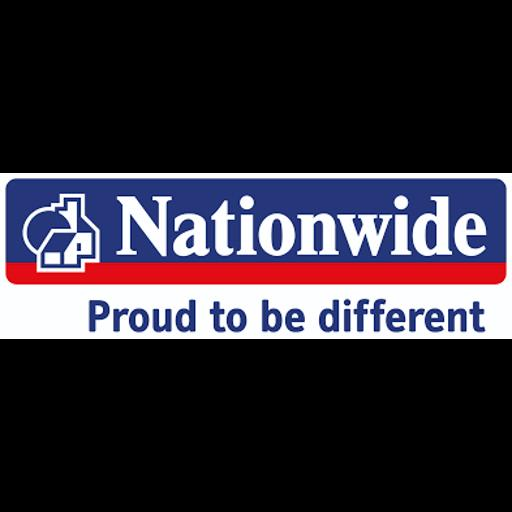Nationwide Building Society: (0, 173, 512, 339)
